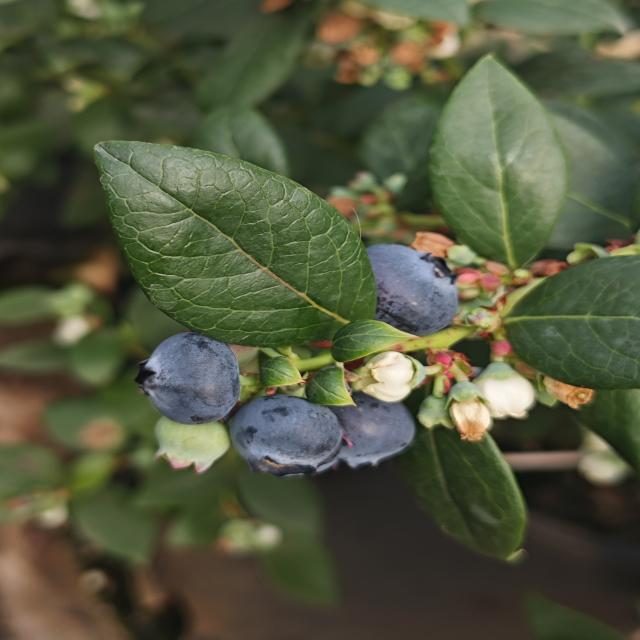ripe: (132, 330, 244, 427), (227, 393, 346, 479), (362, 242, 462, 338), (326, 388, 418, 472)
